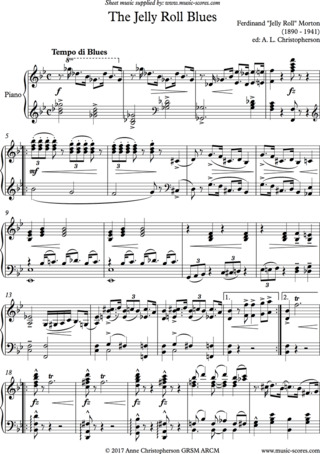Partitura: (0, 7, 320, 454)
